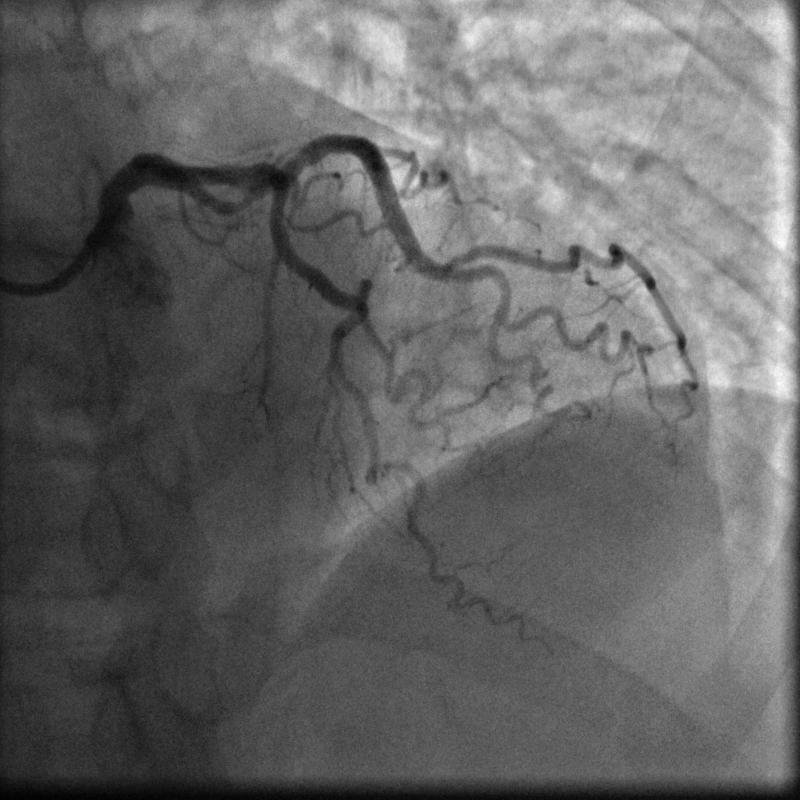Stenosis: (224, 181, 264, 221)
